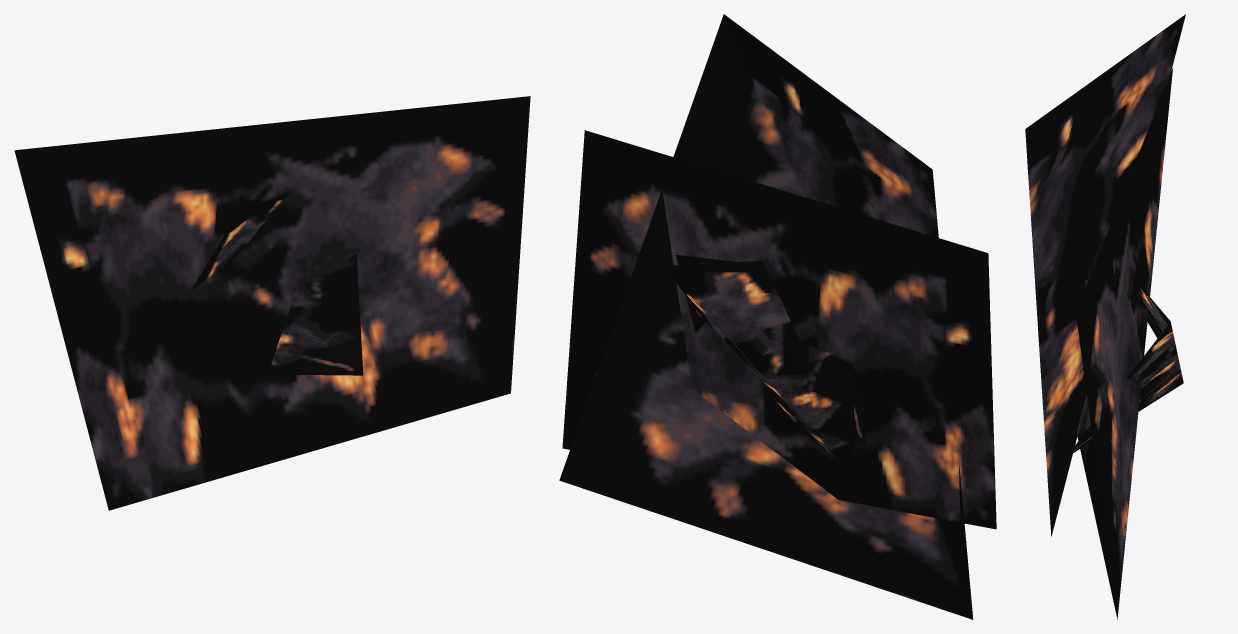
Rendered from si_eeb_0102.glb.
The picture shows the model from 3 angles, left to right: view 1: azimuth 30°, elevation 25°; view 2: azimuth 150°, elevation 25°; view 3: azimuth 270°, elevation 25°; orthographic projection. The views are drawn at different scales.
Parts seen in each view (by area): view 1: layer_00_si_est_0700, layer_03_si_est_0700; view 2: layer_00_si_est_0700, layer_02_si_est_0700, layer_03_si_est_0700, layer_01_si_est_0700; view 3: layer_02_si_est_0700, layer_00_si_est_0700, layer_03_si_est_0700.
Part boxes in pixels (x1=…): layer_00_si_est_0700: x1=14, y1=96, x2=530, y2=510; layer_03_si_est_0700: x1=191, y1=190, x2=363, y2=375; layer_00_si_est_0700: x1=562, y1=130, x2=996, y2=529; layer_02_si_est_0700: x1=559, y1=14, x2=973, y2=619; layer_03_si_est_0700: x1=664, y1=260, x2=855, y2=476; layer_01_si_est_0700: x1=675, y1=254, x2=865, y2=446; layer_02_si_est_0700: x1=1025, y1=14, x2=1185, y2=536; layer_00_si_est_0700: x1=1076, y1=68, x2=1172, y2=619; layer_03_si_est_0700: x1=1066, y1=231, x2=1183, y2=457.
Bounding box in the file's own units: 30.94 × 34.72 × 11.6.
Materials: 1 (1 with a texture image).
